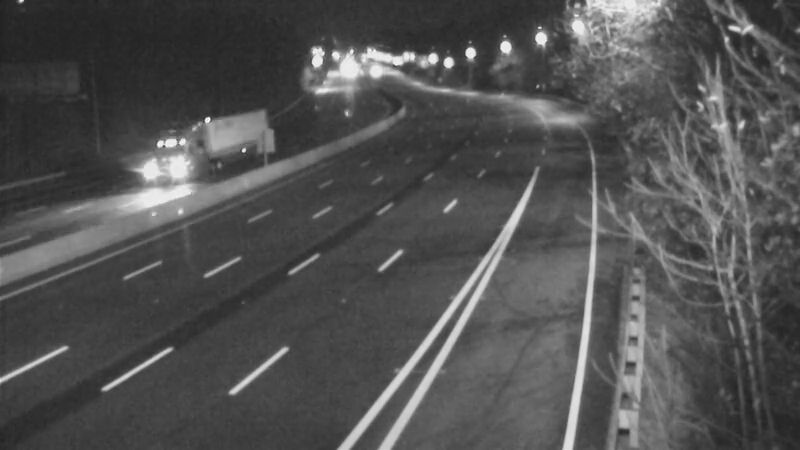vehicle: (134, 128, 214, 208), (352, 45, 402, 95)
